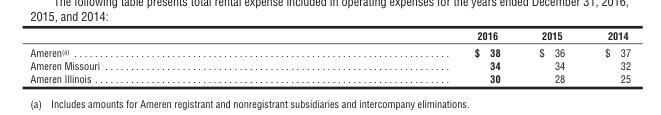table: (29, 28, 630, 84)
table column: (29, 28, 286, 84), (286, 28, 519, 84), (519, 28, 584, 84), (584, 28, 630, 84)
table column header: (29, 28, 630, 43)
table row: (29, 28, 630, 43), (29, 43, 630, 58), (29, 58, 630, 71), (29, 71, 630, 84)
